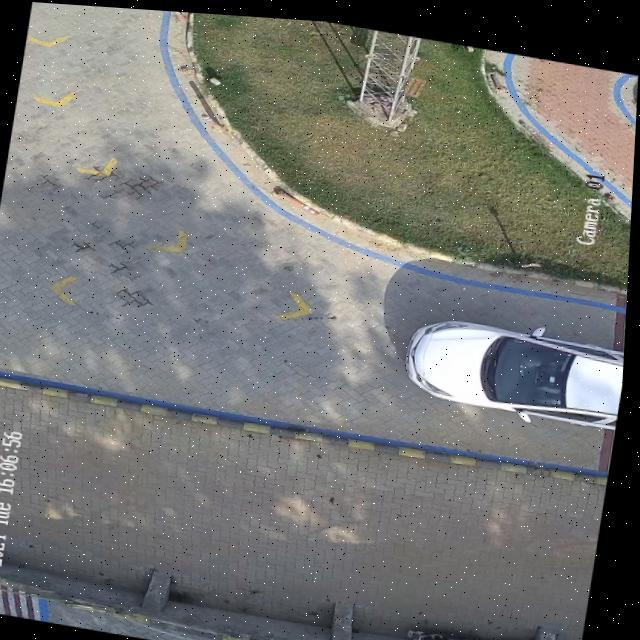car: (409, 313, 627, 419)
